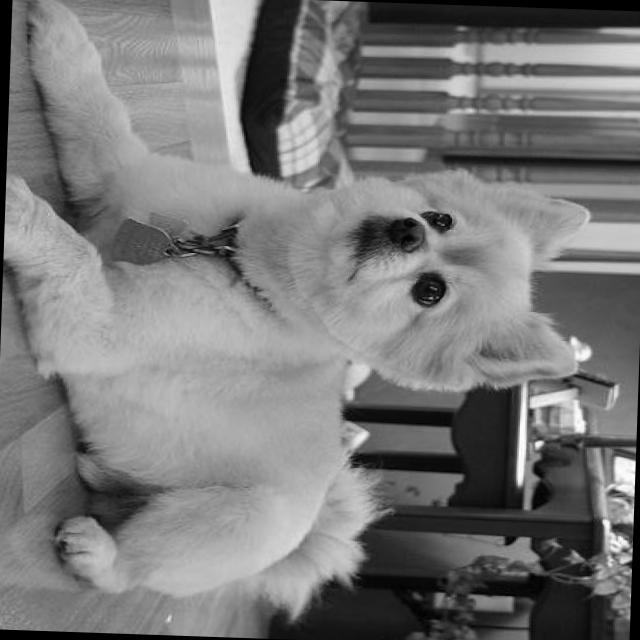laying down: (0, 0, 607, 634)
